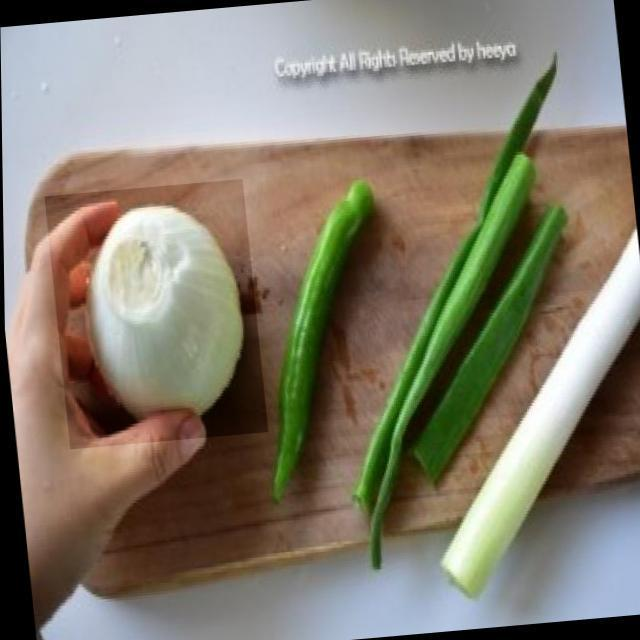Onion: (44, 179, 266, 449)
